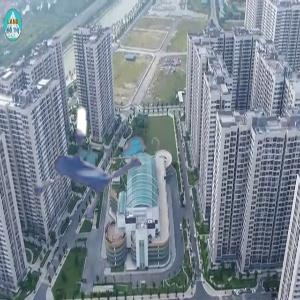drone: (11, 82, 167, 238)
